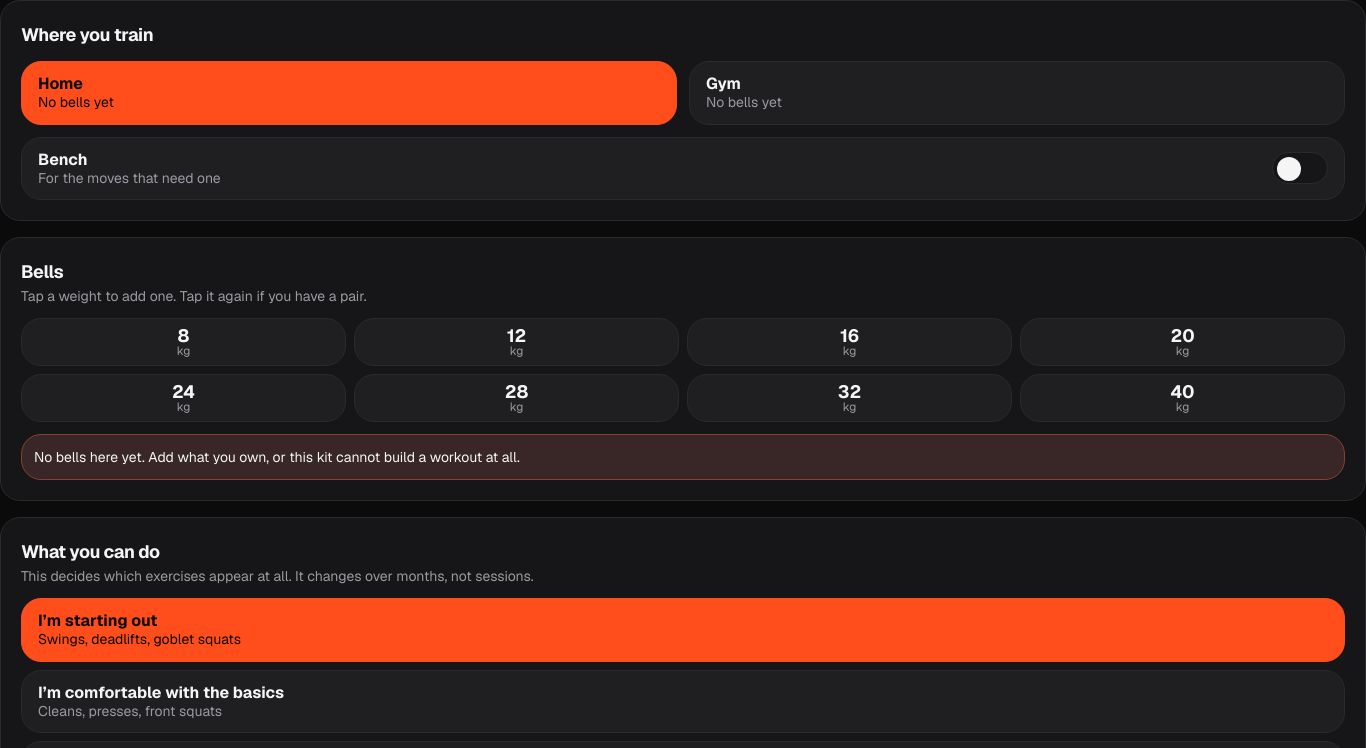
KitEditor › increments the count rather than duplicating the row
The image size is (1366, 748).
Click the button with aria-label "Add a 16 kg bell": (850, 342) [687, 318, 1012, 366]
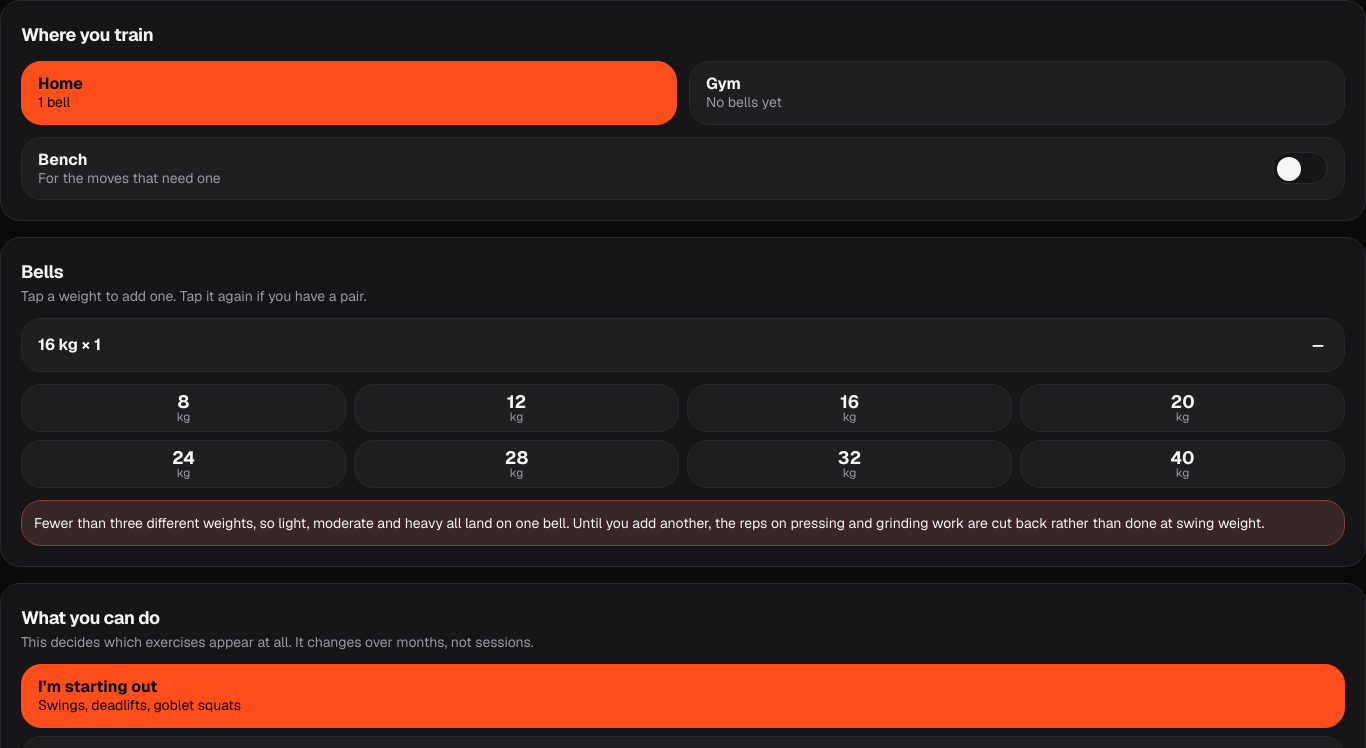
Click the button with aria-label "Add a 16 kg bell": (850, 408) [687, 384, 1012, 432]
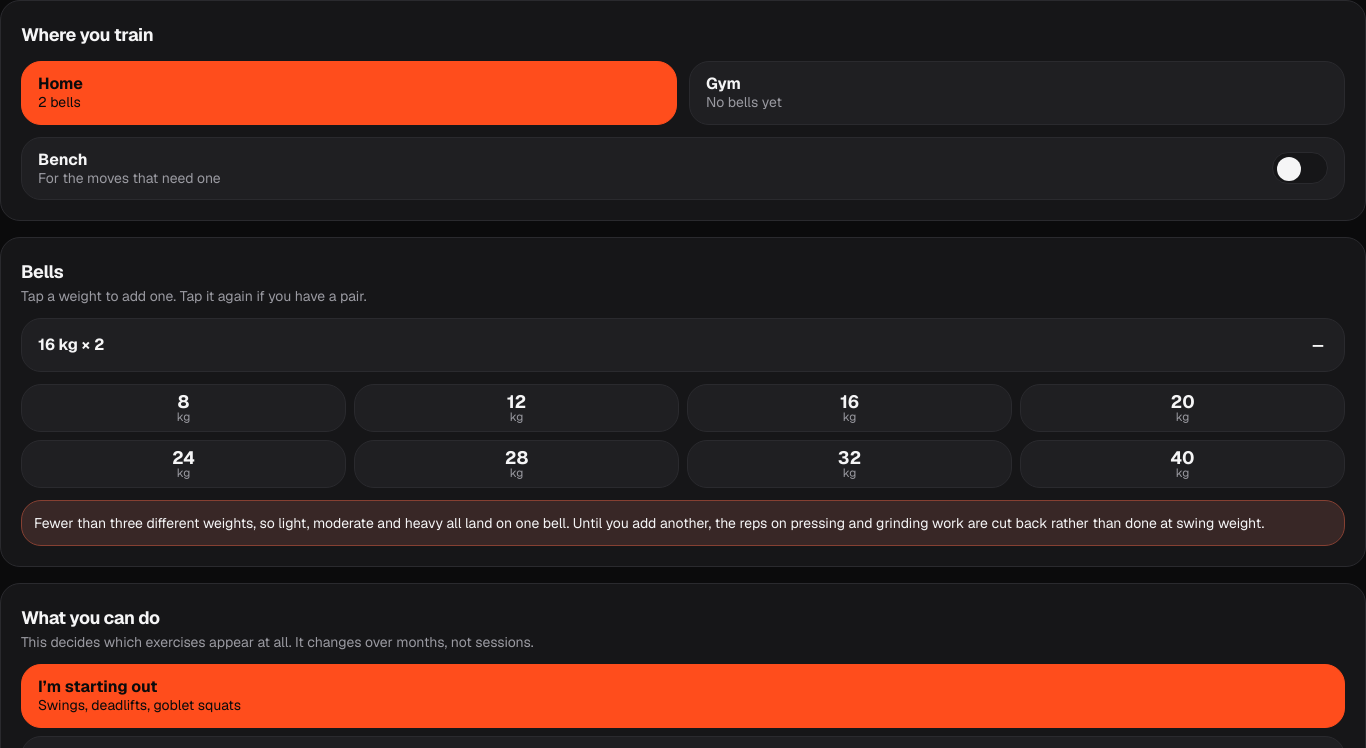
Now the text "16 kg × 2" is shown, box [38, 333, 104, 357]
